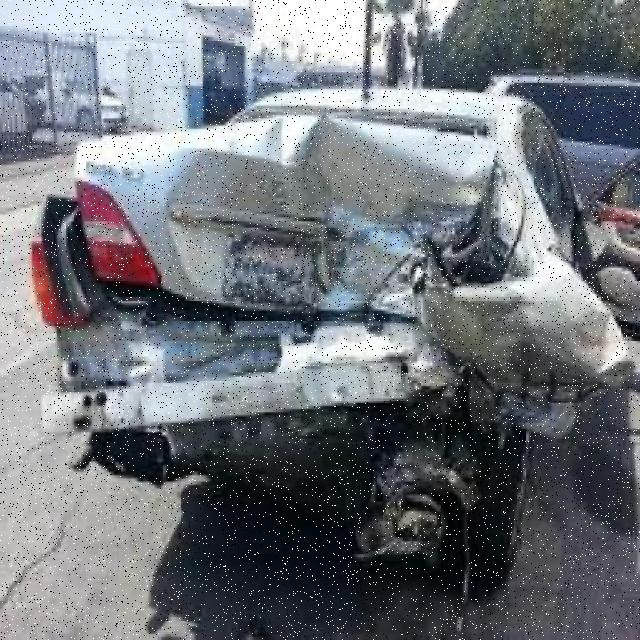damage: (36, 118, 636, 563)
